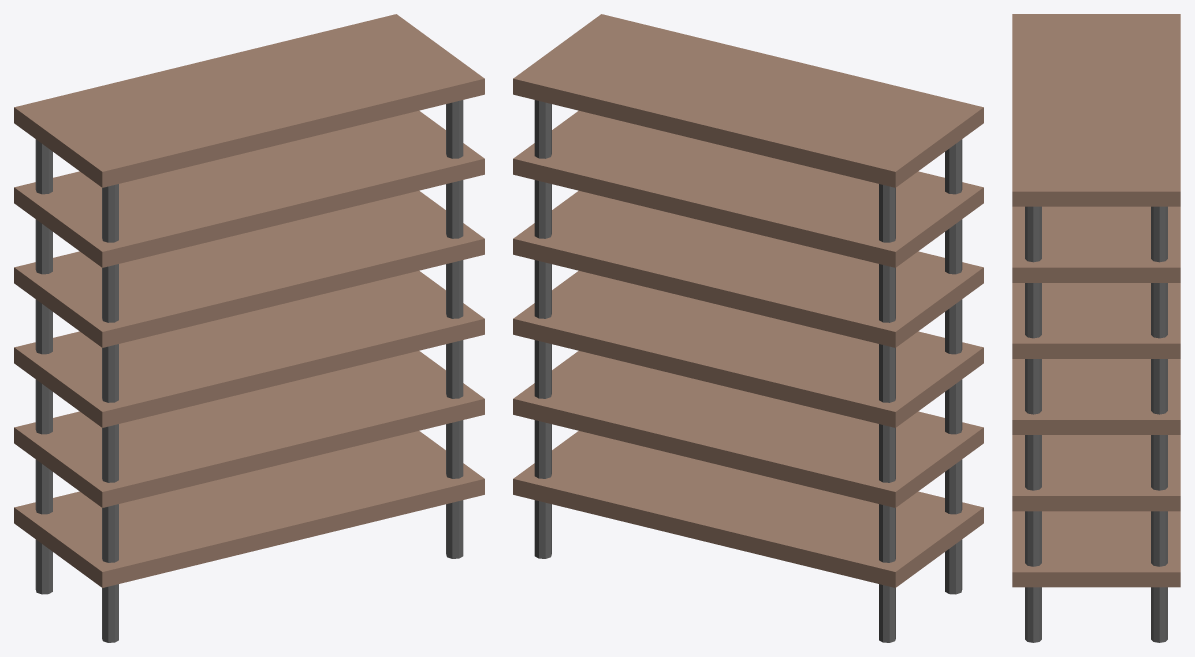
The model's file is shelves1.fbx.
3 views of the same model, side by side, from view 1: azimuth 30°, elevation 25°; view 2: azimuth 150°, elevation 25°; view 3: azimuth 270°, elevation 25° (orthographic). The views are drawn at different scales.
Visible parts, largest first — view 1: Cube; view 2: Cube; view 3: Cube.
Boxes of the visible parts, x1,y1,x2,y2 form: Cube: (14,14,484,642); Cube: (513,14,983,642); Cube: (1012,14,1180,642).
Size of the model in its own units: 200 by 240 by 80.
